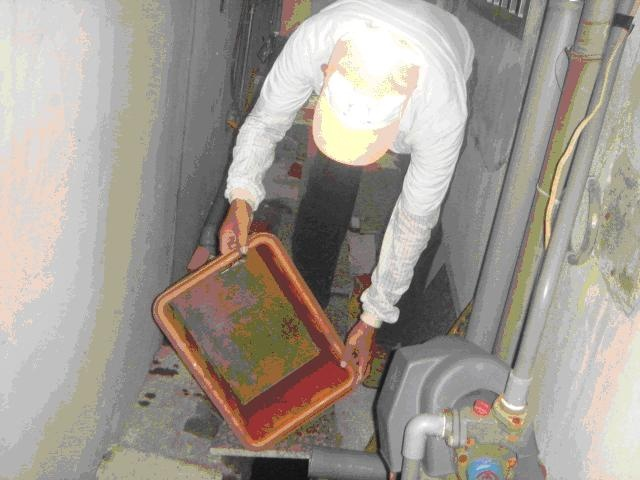box: (151, 232, 358, 452)
